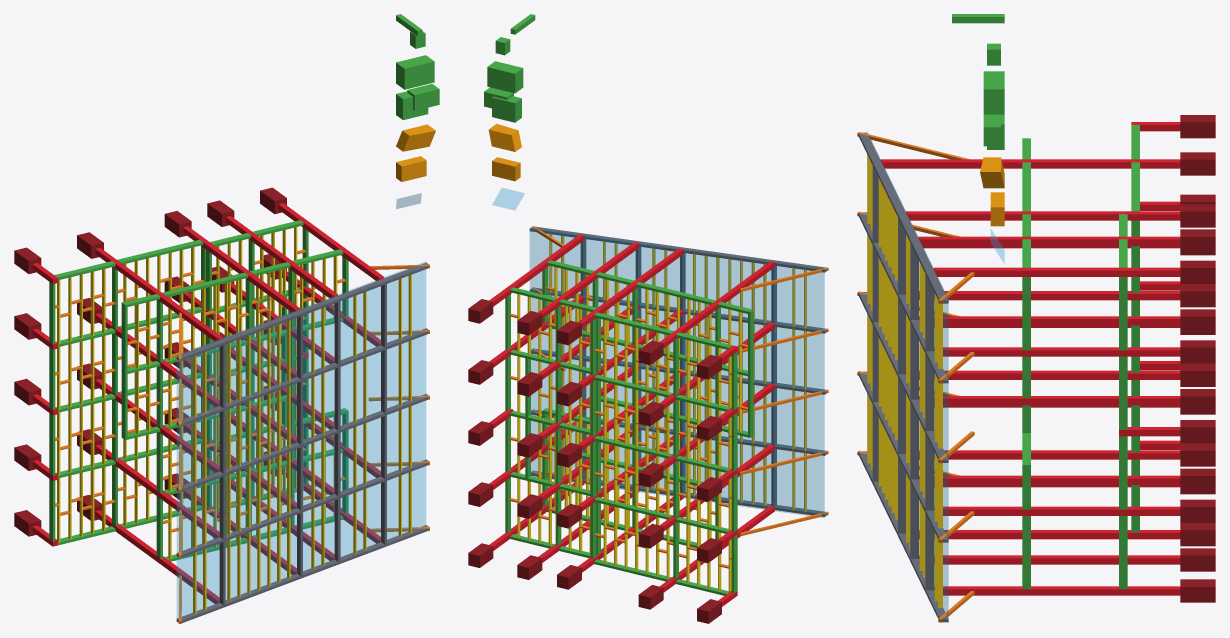
The model's file is tinker.obj.
3 renders of one model, left to right at view 1: azimuth 30°, elevation 25°; view 2: azimuth 150°, elevation 25°; view 3: azimuth 270°, elevation 25°, orthographic. The views are drawn at different scales.
Visible parts, largest first — view 1: obj_424, obj_1, obj_420, obj_2, obj_20, obj_15, obj_3, obj_421, obj_4, obj_11, obj_6, obj_419 (+11 smaller); view 2: obj_424, obj_1, obj_420, obj_2, obj_421, obj_3, obj_4, obj_419, obj_20, obj_15, obj_7, obj_21 (+13 smaller); view 3: obj_1, obj_3, obj_2, obj_4, obj_18, obj_9, obj_23, obj_13, obj_8, obj_22, obj_17, obj_16 (+59 smaller).
Boxes of the visible parts, <box> form: obj_424: <box>177,261,425,618</box>; obj_1: <box>95,247,222,341</box>; obj_420: <box>396,84,439,119</box>; obj_2: <box>183,226,300,312</box>; obj_20: <box>95,510,219,603</box>; obj_15: <box>95,444,219,538</box>; obj_3: <box>225,216,337,298</box>; obj_421: <box>396,55,434,89</box>; obj_4: <box>278,203,384,280</box>; obj_11: <box>95,379,219,472</box>; obj_6: <box>95,313,219,406</box>; obj_419: <box>396,124,435,151</box>; obj_424: <box>530,228,824,517</box>; obj_1: <box>659,261,774,347</box>; obj_420: <box>484,87,521,122</box>; obj_2: <box>578,248,683,328</box>; obj_421: <box>487,61,523,93</box>; obj_3: <box>538,242,639,318</box>; obj_4: <box>489,234,584,306</box>; obj_419: <box>488,123,521,151</box>; obj_20: <box>660,505,774,592</box>; obj_15: <box>659,444,774,531</box>; obj_7: <box>578,310,683,389</box>; obj_21: <box>578,496,683,572</box>; obj_1: <box>880,159,1180,168</box>; obj_3: <box>918,236,1180,245</box>; obj_2: <box>906,211,1180,220</box>; obj_4: <box>933,267,1180,276</box>; obj_18: <box>934,506,1180,515</box>; obj_9: <box>934,347,1180,356</box>; obj_23: <box>934,586,1180,595</box>; obj_13: <box>919,396,1180,405</box>; obj_8: <box>919,316,1180,325</box>; obj_22: <box>919,555,1180,564</box>; obj_17: <box>919,475,1180,484</box>; obj_16: <box>919,450,1180,459</box>.
Bounding box in the file's own units: 132 × 192 × 102.
